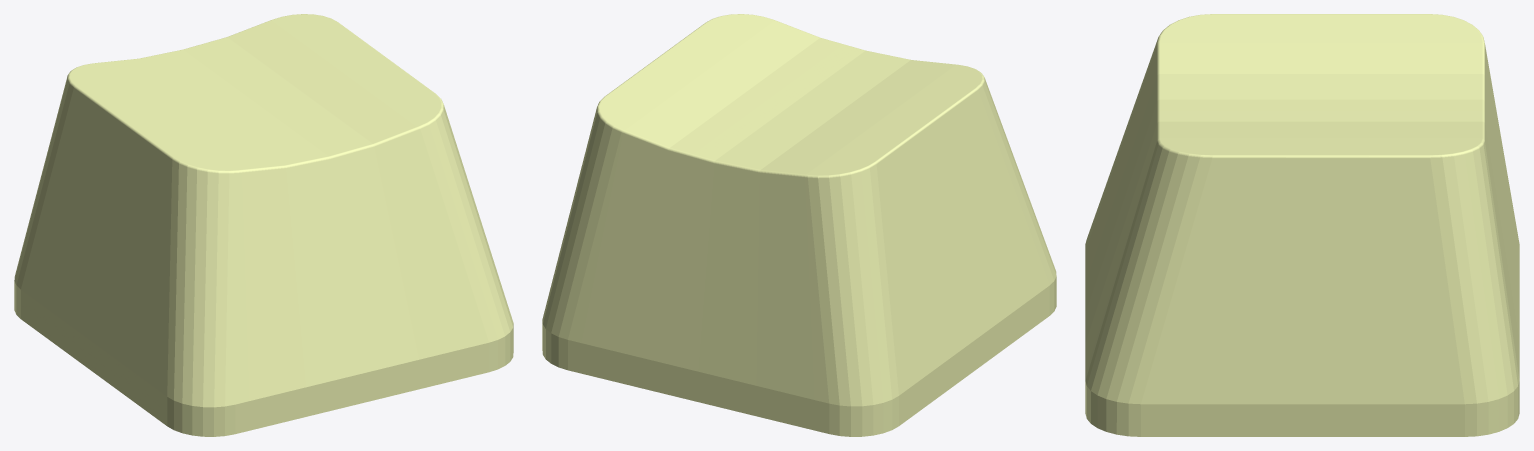
File: KeyBoradKeySimpleMaterial.glb
3 views of the same model, side by side, from view 1: azimuth 30°, elevation 25°; view 2: azimuth 150°, elevation 25°; view 3: azimuth 270°, elevation 25° (orthographic). The views are drawn at different scales.
Visible parts, largest first — view 1: Plane; view 2: Plane; view 3: Plane.
Boxes of the visible parts, <box> form: Plane: <box>14,14,513,436</box>; Plane: <box>542,14,1056,436</box>; Plane: <box>1085,14,1519,436</box>.
Size of the model in its own units: 0.0362 by 0.0239 by 0.0362.
